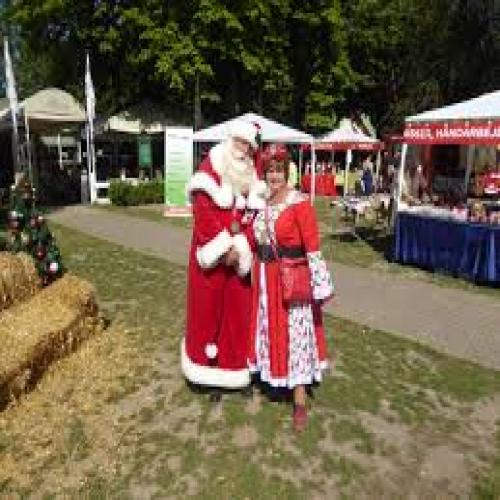Santa: (181, 118, 267, 400)
